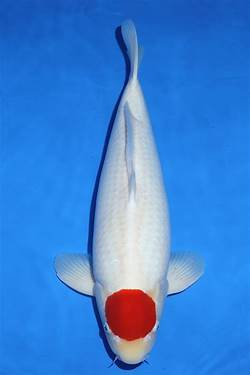sun: (54, 20, 204, 365)
